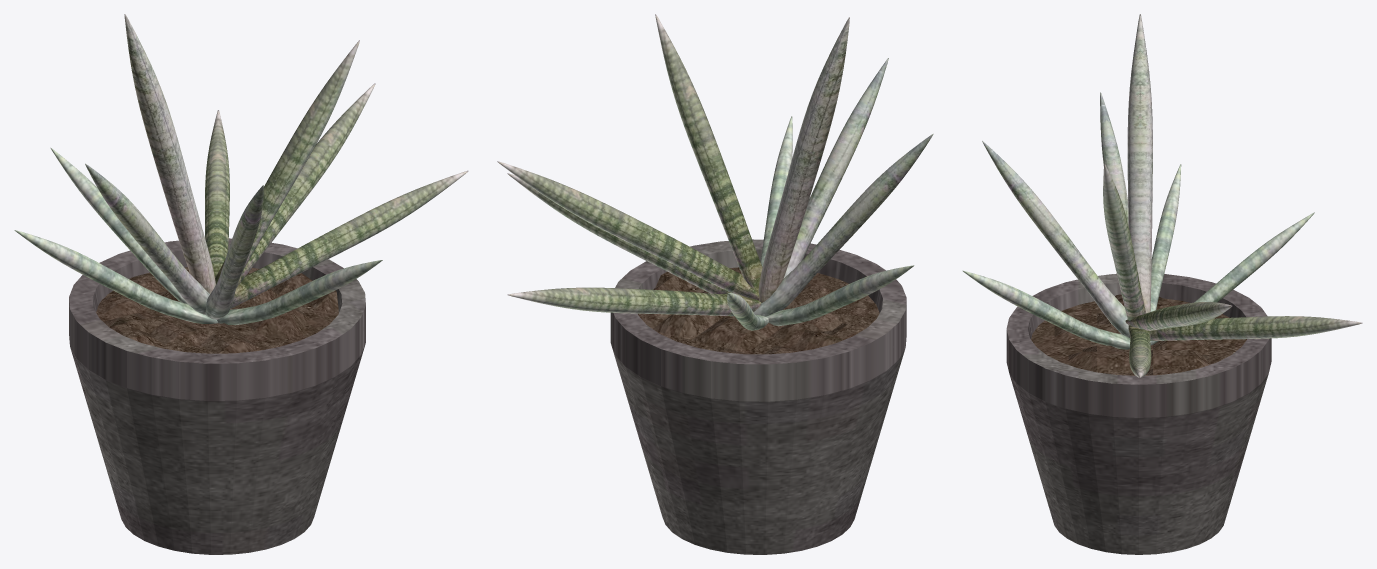
The model's file is dracaena trifasciata with paso.fbx.
3 renders of one model, left to right at view 1: azimuth 30°, elevation 25°; view 2: azimuth 150°, elevation 25°; view 3: azimuth 270°, elevation 25°, orthographic. The views are drawn at different scales.
Parts seen in each view (by area): view 1: Cylinder, Plane, dracaena trifasciata.001, dracaena trifasciata.005, dracaena trifasciata, dracaena trifasciata.002, dracaena trifasciata.004, dracaena trifasciata.003, dracaena trifasciata.008, dracaena trifasciata.006, dracaena trifasciata.007, dracaena trifasciata.009; view 2: Cylinder, Plane, dracaena trifasciata.001, dracaena trifasciata, dracaena trifasciata.004, dracaena trifasciata.008, dracaena trifasciata.002, dracaena trifasciata.006, dracaena trifasciata.003, dracaena trifasciata.005, dracaena trifasciata.007, dracaena trifasciata.009; view 3: Cylinder, Plane, dracaena trifasciata.001, dracaena trifasciata.006, dracaena trifasciata.008, dracaena trifasciata, dracaena trifasciata.007, dracaena trifasciata.009, dracaena trifasciata.004, dracaena trifasciata.003, dracaena trifasciata.002, dracaena trifasciata.005.
Boxes of the visible parts, x1,y1,x2,y2 form: Cylinder: (69,238,365,554); Plane: (96,267,338,353); dracaena trifasciata.001: (124,14,215,293); dracaena trifasciata.005: (230,170,468,308); dracaena trifasciata: (215,40,359,284); dracaena trifasciata.002: (85,163,209,314); dracaena trifasciata.004: (215,83,375,287); dracaena trifasciata.003: (14,230,217,323); dracaena trifasciata.008: (205,110,229,276); dracaena trifasciata.006: (205,185,263,319); dracaena trifasciata.007: (217,260,382,325); dracaena trifasciata.009: (50,148,187,303); Cylinder: (610,239,906,554); Plane: (638,267,879,354); dracaena trifasciata.001: (758,17,849,302); dracaena trifasciata: (655,14,762,291); dracaena trifasciata.004: (497,161,759,300); dracaena trifasciata.008: (507,287,761,316); dracaena trifasciata.002: (754,133,933,316); dracaena trifasciata.006: (783,58,888,278); dracaena trifasciata.003: (766,265,914,326); dracaena trifasciata.005: (507,173,730,293); dracaena trifasciata.007: (760,116,792,266); dracaena trifasciata.009: (727,293,768,330); Cylinder: (1006,273,1271,554); Plane: (1031,294,1246,375); dracaena trifasciata.001: (1127,14,1152,313); dracaena trifasciata.006: (982,141,1130,338); dracaena trifasciata.008: (1150,316,1362,340); dracaena trifasciata: (1103,164,1145,320); dracaena trifasciata.007: (962,270,1130,349); dracaena trifasciata.009: (1150,212,1314,345); dracaena trifasciata.004: (1125,302,1232,330); dracaena trifasciata.003: (1150,164,1181,311); dracaena trifasciata.002: (1100,92,1128,223); dracaena trifasciata.005: (1128,325,1151,377).
Size of the model in its own units: 33.32 by 38.54 by 30.1.
10 materials, 10 textured.
